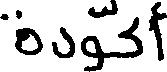X: (0, 5, 42, 59), (82, 2, 102, 71), (118, 12, 142, 62), (152, 0, 166, 65), (52, 22, 73, 62)
